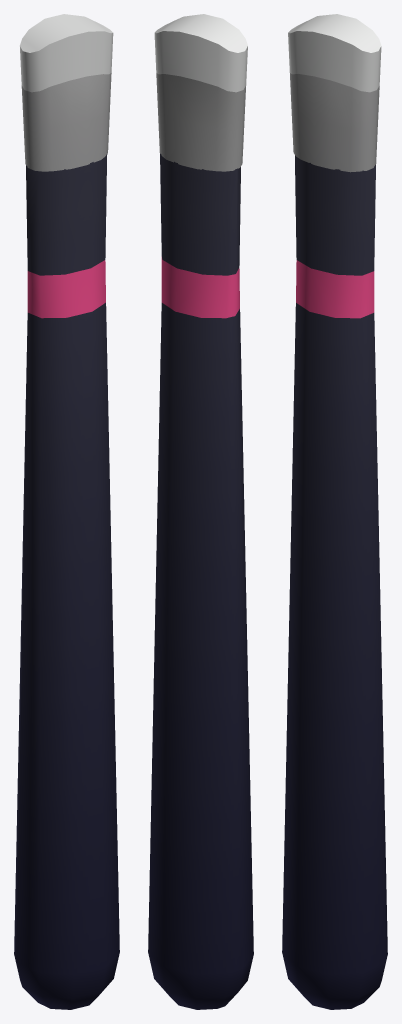
File: Brush_03.fbx
3 views of the same model, side by side, from view 1: azimuth 30°, elevation 25°; view 2: azimuth 150°, elevation 25°; view 3: azimuth 330°, elevation 25° (orthographic).
Parts seen in each view (by area): view 1: Brush_03; view 2: Brush_03; view 3: Brush_03.
Boxes of the visible parts, x1,y1,x2,y2 form: Brush_03: [14, 14, 119, 1009]; Brush_03: [148, 14, 253, 1009]; Brush_03: [282, 14, 387, 1009].
Bounding box in the file's own units: 0.0121 × 0.1223 × 0.0104.
1 material, 1 textured.
